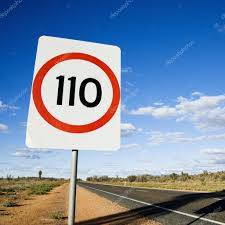Speed_limit_110km: (32, 52, 121, 133)
